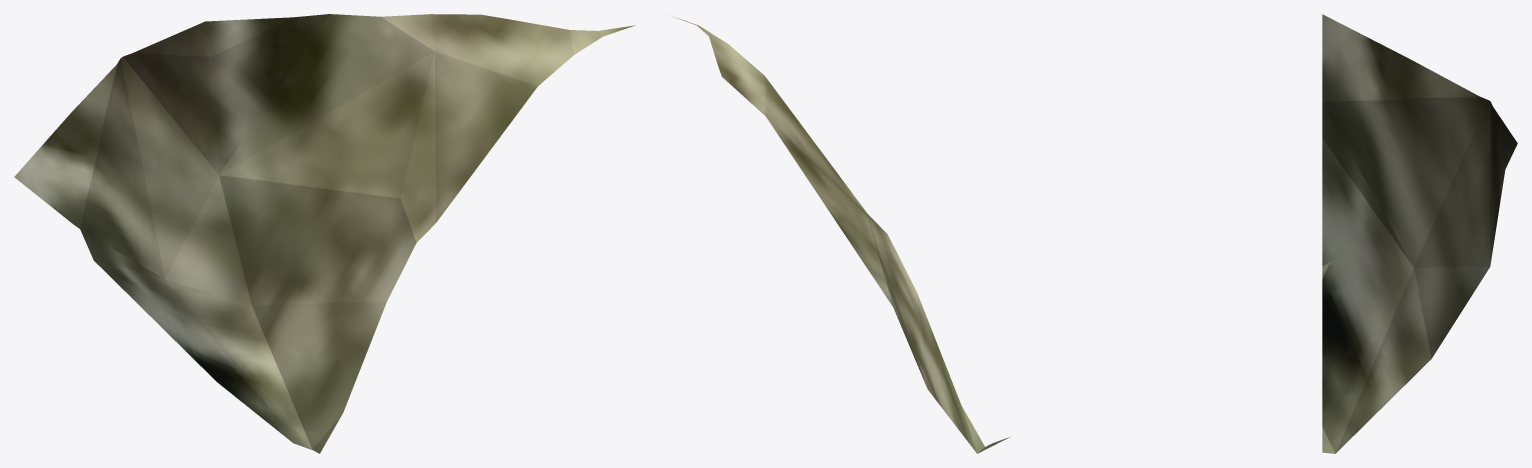
3 views of the same model, side by side, from view 1: azimuth 30°, elevation 25°; view 2: azimuth 150°, elevation 25°; view 3: azimuth 270°, elevation 25° (orthographic). The views are drawn at different scales.
Size of the model in its own units: 0.9797 by 0.5304 by 0.3042.
Materials: 1 (1 with a texture image).
